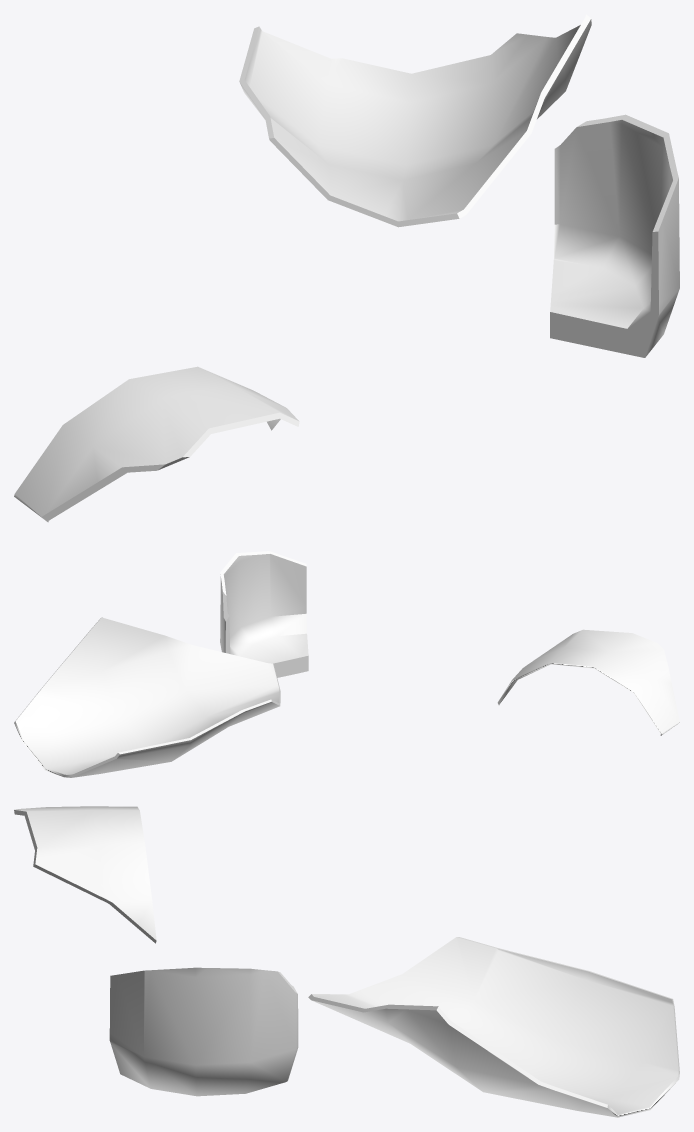
Rendered from brokenGlassPieces.fbx.
3 renders of one model, top to bottom at view 1: azimuth 30°, elevation 25°; view 2: azimuth 150°, elevation 25°; view 3: azimuth 270°, elevation 25°, orthographic. The views are drawn at different scales.
Visible parts, largest first — view 1: glassPieces; view 2: glassPieces; view 3: glassPieces.
Boxes of the visible parts, left/top/right/bottom form: glassPieces: left=14, top=14, right=679, bottom=522; glassPieces: left=14, top=551, right=679, bottom=777; glassPieces: left=14, top=806, right=679, bottom=1117.
Size of the model in its own units: 0.2336 by 0.0486 by 0.2141.
